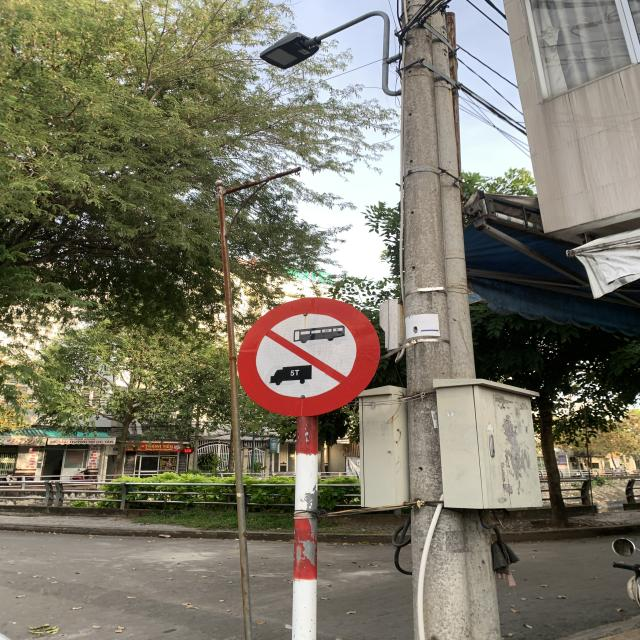Cam_XeTai_XeKhach: (232, 296, 372, 416)
